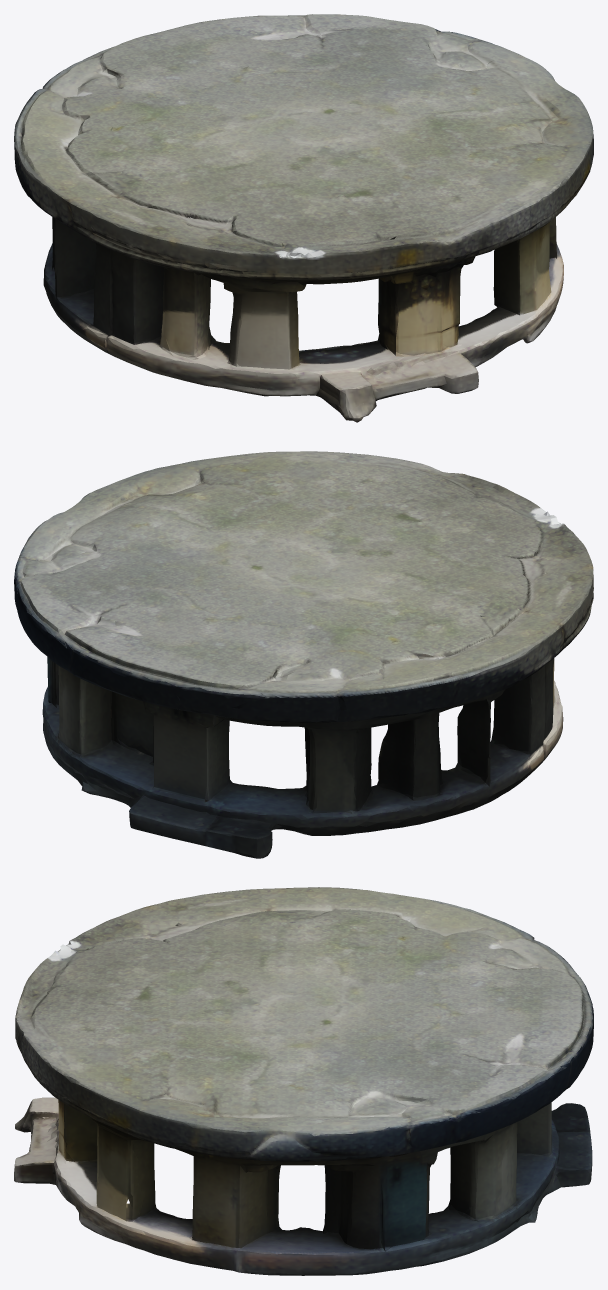
The picture shows the model from 3 angles, top to bottom: view 1: azimuth 30°, elevation 25°; view 2: azimuth 150°, elevation 25°; view 3: azimuth 270°, elevation 25°; orthographic projection.
Visible parts, largest first — view 1: mesh; view 2: mesh; view 3: mesh.
Part boxes in pixels (x1,y1,x2,y2): mesh: (14,14,593,422); mesh: (14,451,593,858); mesh: (14,887,593,1275).
Bounding box in the file's own units: 1 × 0.3229 × 1.
Materials: 1 (1 with a texture image).
